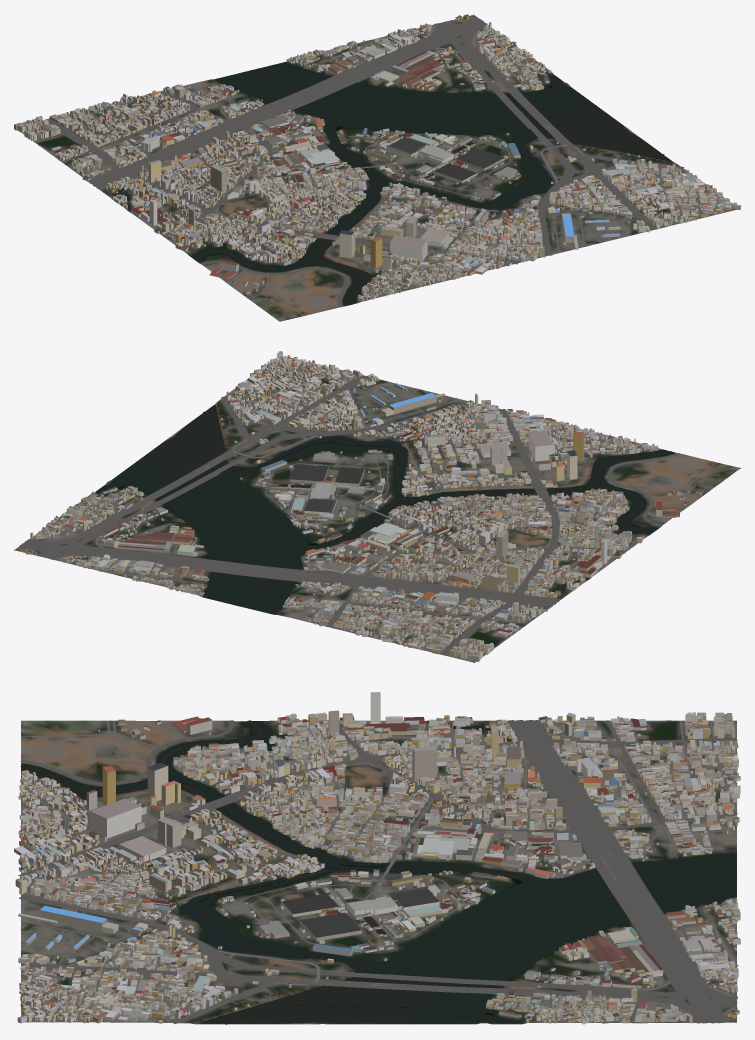
3 views of the same model, one above another, from view 1: azimuth 30°, elevation 25°; view 2: azimuth 150°, elevation 25°; view 3: azimuth 270°, elevation 25° (orthographic). The views are drawn at different scales.
Parts seen in each view (by area): view 1: buildings, ground, water, roads; view 2: buildings, ground, water, roads; view 3: buildings, ground, water, roads.
Part boxes in pixels (x1=…): buildings: x1=14, y1=14, x2=740, y2=301; ground: x1=22, y1=15, x2=736, y2=321; water: x1=117, y1=61, x2=673, y2=305; roads: x1=24, y1=16, x2=733, y2=315; buildings: x1=21, y1=351, x2=702, y2=661; ground: x1=14, y1=357, x2=740, y2=662; water: x1=96, y1=404, x2=675, y2=614; roads: x1=18, y1=358, x2=716, y2=661; buildings: x1=14, y1=692, x2=740, y2=1024; ground: x1=21, y1=720, x2=736, y2=1024; water: x1=20, y1=720, x2=736, y2=1024; roads: x1=18, y1=719, x2=738, y2=1023.
Size of the model in its own units: 1420 by 85.08 by 1422.
